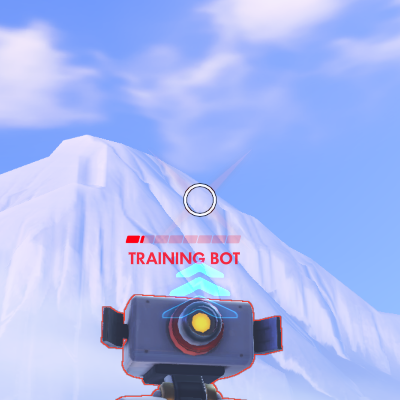hpbar: (125, 235, 241, 243)
